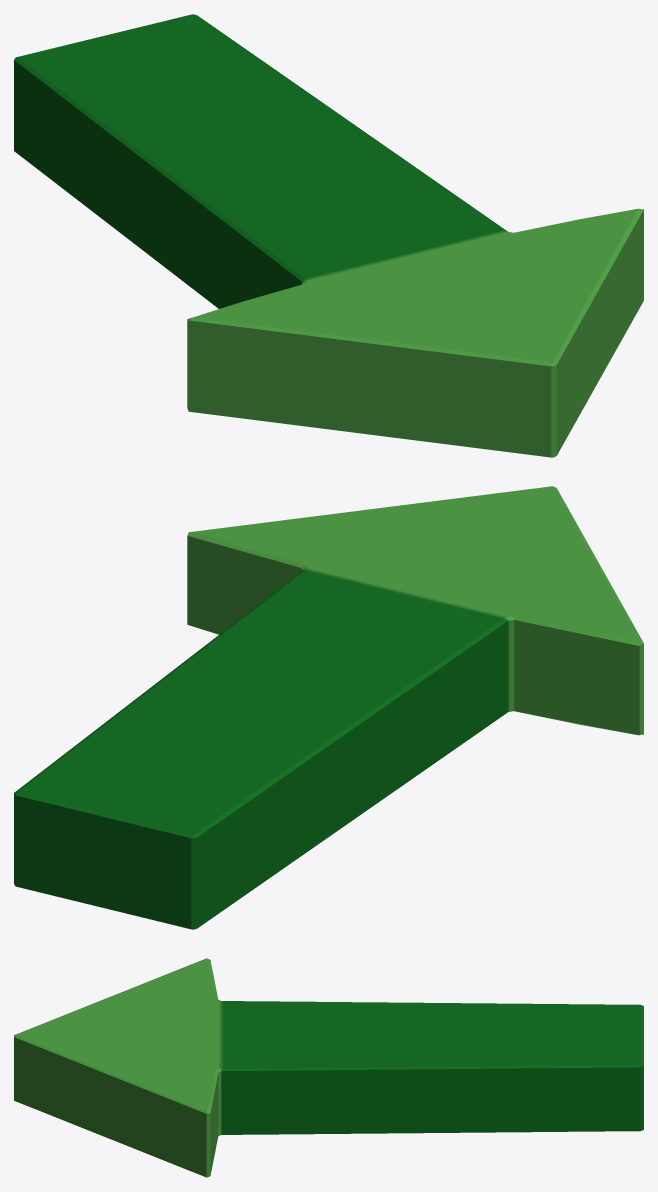
File: Arrow.fbx
The picture shows the model from 3 angles, top to bottom: view 1: azimuth 30°, elevation 25°; view 2: azimuth 150°, elevation 25°; view 3: azimuth 270°, elevation 25°; orthographic projection. The views are drawn at different scales.
Visible parts, largest first — view 1: Arrow; view 2: Arrow; view 3: Arrow.
Part boxes in pixels (x1,y1,x2,y2): Arrow: (14,14,643,457); Arrow: (14,486,643,929); Arrow: (14,958,643,1177).
Size of the model in its own units: 2.49 by 0.496 by 4.27.
